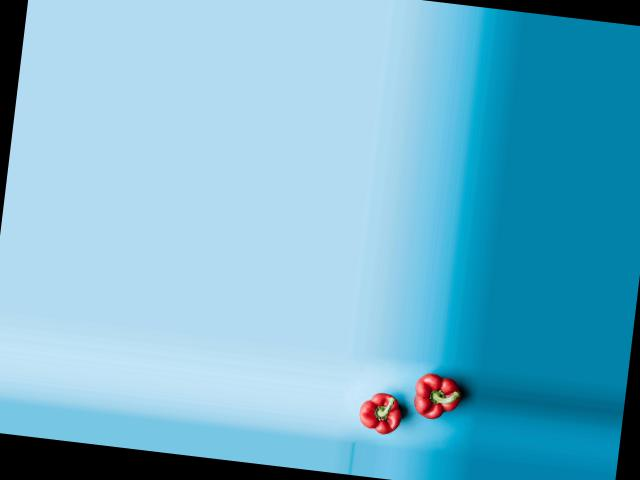bell_pepper: (402, 371, 468, 428)
